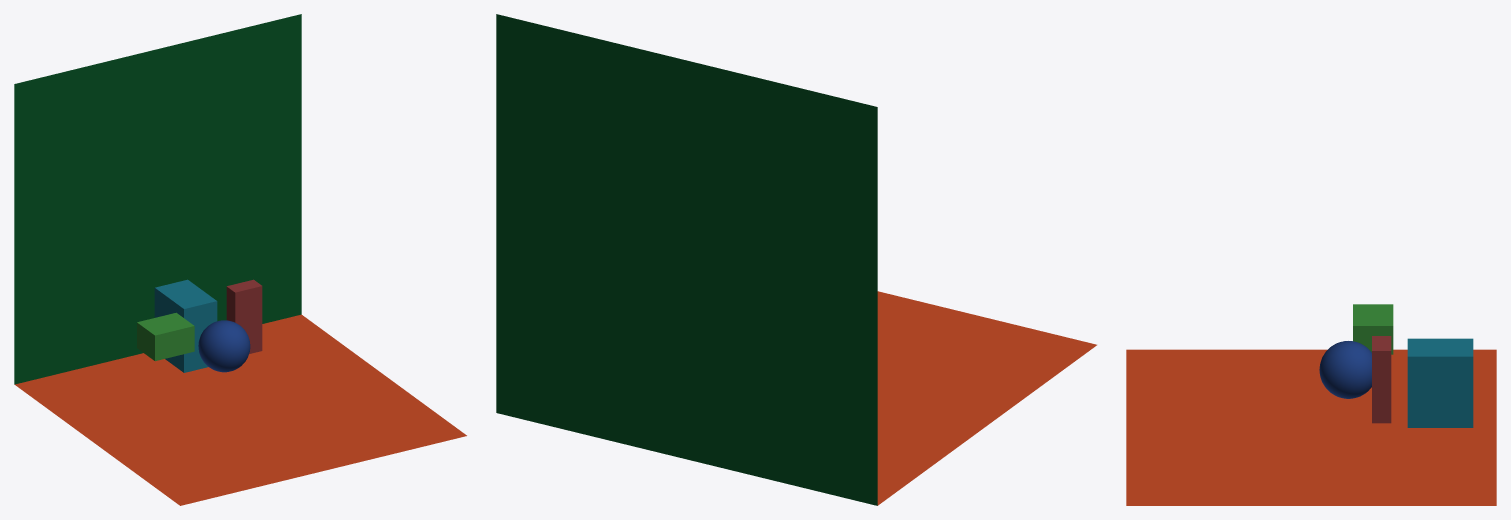
3 renders of one model, left to right at view 1: azimuth 30°, elevation 25°; view 2: azimuth 150°, elevation 25°; view 3: azimuth 270°, elevation 25°, orthographic. The views are drawn at different scales.
Visible parts, largest first — view 1: Plane001, Plane002, Box002, Box001, Sphere001, Box003; view 2: Plane001, Plane002; view 3: Plane002, Box002, Sphere001, Box003, Box001.
Boxes of the visible parts, x1,y1,x2,y2 form: Plane001: (14,14,301,384); Plane002: (15,314,466,505); Box002: (154,279,217,372); Box001: (137,312,194,361); Sphere001: (198,320,250,372); Box003: (226,279,262,353); Plane001: (496,14,877,505); Plane002: (877,291,1096,505); Plane002: (1126,349,1496,505); Box002: (1407,338,1473,427); Sphere001: (1319,341,1371,398); Box003: (1372,336,1391,423); Box001: (1353,304,1393,354).
Bounding box in the file's own units: 100 × 100 × 100.
